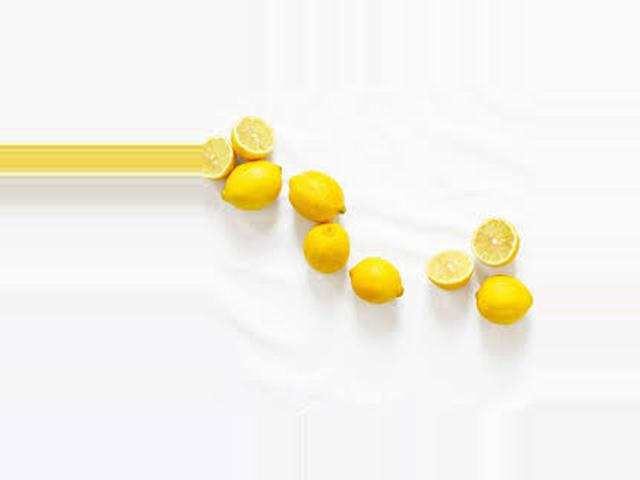lemon: (216, 158, 301, 219)
